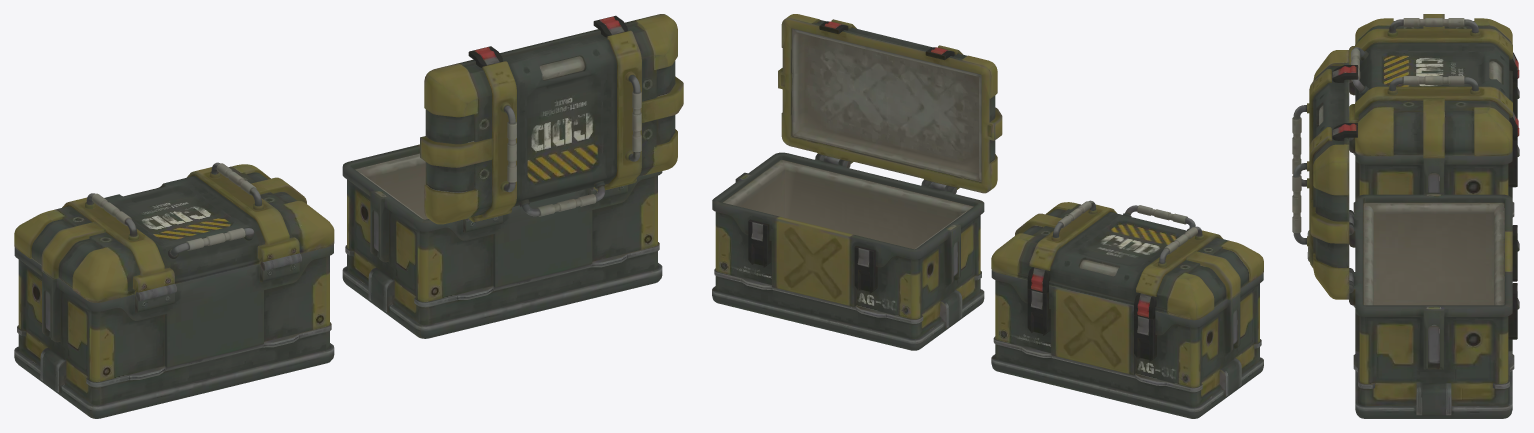
Rendered from ammo-crate.glb.
3 views of the same model, side by side, from view 1: azimuth 30°, elevation 25°; view 2: azimuth 150°, elevation 25°; view 3: azimuth 270°, elevation 25° (orthographic). The views are drawn at different scales.
Visible parts, largest first — view 1: CrateBase_Low.001, CrateLid_Low, CrateBase_Low; view 2: CrateBase_Low.001, CrateBase_Low, CrateLid_Low; view 3: CrateBase_Low, CrateBase_Low.001, CrateLid_Low.
Part boxes in pixels (box(x1,y1,x2,y2)): CrateBase_Low.001: box(14, 162, 334, 418); CrateLid_Low: box(420, 14, 683, 224); CrateBase_Low: box(342, 144, 662, 338); CrateBase_Low.001: box(991, 200, 1263, 418); CrateBase_Low: box(712, 152, 984, 350); CrateLid_Low: box(778, 14, 1002, 193); CrateBase_Low: box(1349, 192, 1519, 418); CrateBase_Low.001: box(1349, 14, 1519, 217); CrateLid_Low: box(1292, 50, 1357, 299).
Bounding box in the file's own units: 2.38 × 1.1 × 0.8468.
Materials: 4 (4 with a texture image).
